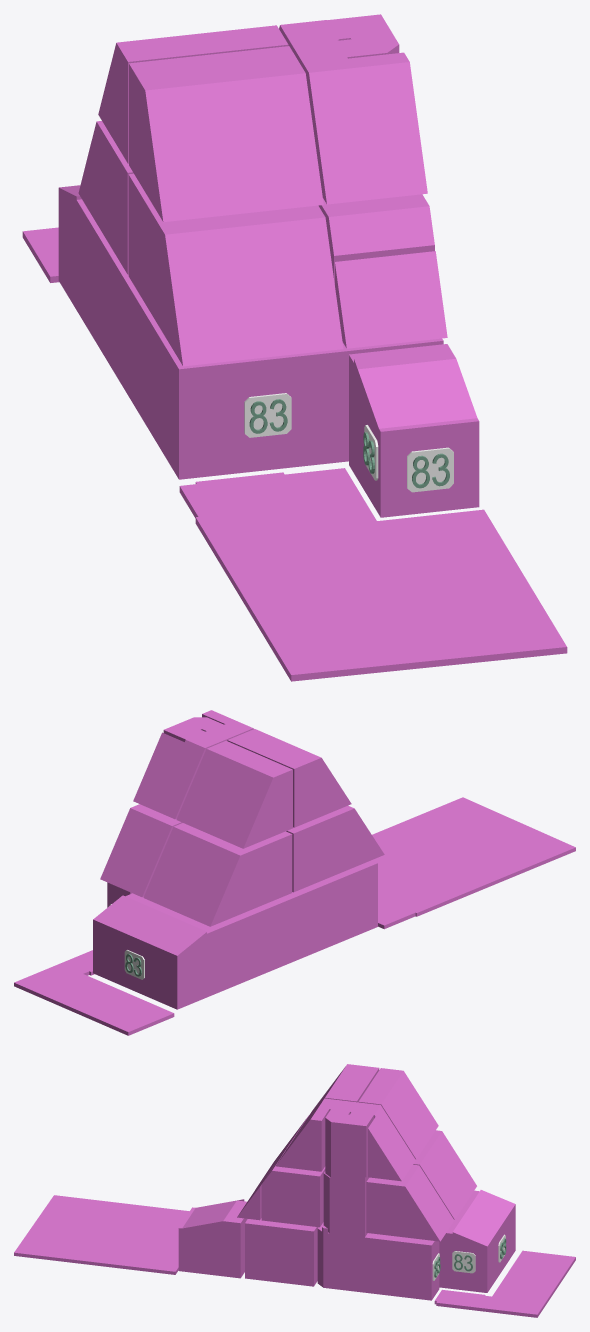
3 renders of one model, top to bottom at view 1: azimuth 30°, elevation 25°; view 2: azimuth 150°, elevation 25°; view 3: azimuth 270°, elevation 25°, orthographic. The views are drawn at different scales.
Visible parts, largest first — view 1: g_18, g_10, g_7, g_0, g_5, g_15, g_1, g_16, g_6, g_11, g_8, g_14 (+3 smaller); view 2: g_1, g_18, g_8, g_11, g_17, g_7, g_15, g_10, g_0, g_9, g_14; view 3: g_18, g_1, g_15, g_9, g_5, g_17, g_0, g_2, g_6, g_11, g_4, g_14 (+5 smaller).
Boxes of the visible parts, x1,y1,x2,y2 form: g_18: [179, 468, 567, 681]; g_10: [129, 46, 323, 222]; g_7: [128, 173, 343, 366]; g_0: [143, 309, 443, 479]; g_5: [349, 344, 479, 517]; g_15: [279, 20, 427, 204]; g_1: [58, 185, 147, 419]; g_16: [335, 251, 447, 348]; g_6: [318, 194, 434, 284]; g_11: [98, 25, 288, 163]; g_8: [78, 121, 133, 274]; g_14: [327, 14, 399, 58]; g_1: [93, 885, 317, 1009]; g_18: [371, 797, 575, 929]; g_8: [143, 823, 292, 926]; g_11: [176, 741, 292, 848]; g_17: [14, 950, 174, 1035]; g_7: [286, 805, 384, 892]; g_15: [133, 710, 253, 819]; g_10: [227, 729, 351, 827]; g_0: [312, 860, 377, 951]; g_9: [100, 804, 182, 897]; g_14: [163, 717, 223, 741]; g_18: [14, 1195, 189, 1274]; g_1: [439, 1190, 515, 1292]; g_15: [275, 1098, 415, 1181]; g_9: [366, 1164, 454, 1241]; g_5: [178, 1199, 247, 1278]; g_17: [434, 1250, 575, 1317]; g_0: [245, 1218, 317, 1286]; g_2: [367, 1233, 439, 1300]; g_6: [261, 1150, 325, 1227]; g_11: [358, 1068, 438, 1159]; g_4: [317, 1222, 369, 1292]; g_14: [325, 1109, 373, 1177].
Bounding box in the file's own units: 11.96 × 7.94 × 23.76.
